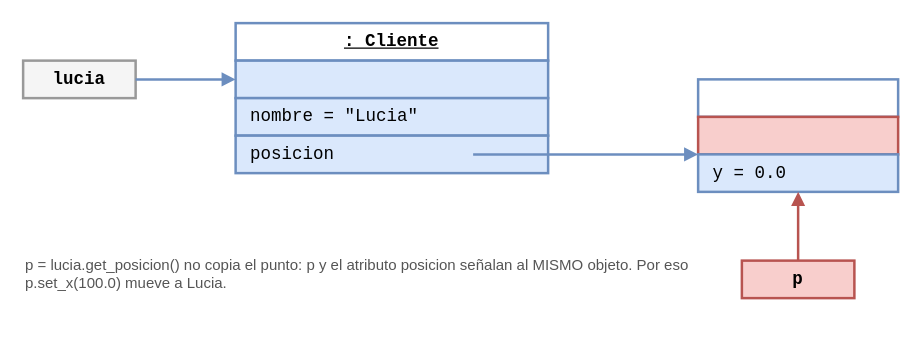
Image size: 920x344. Some labels were removed from this diagram. Each missing label, with the centre of its shape:
: Punto: [797,98]
cedula = "1001": [391,79]
x = 100.0: [797,135]
